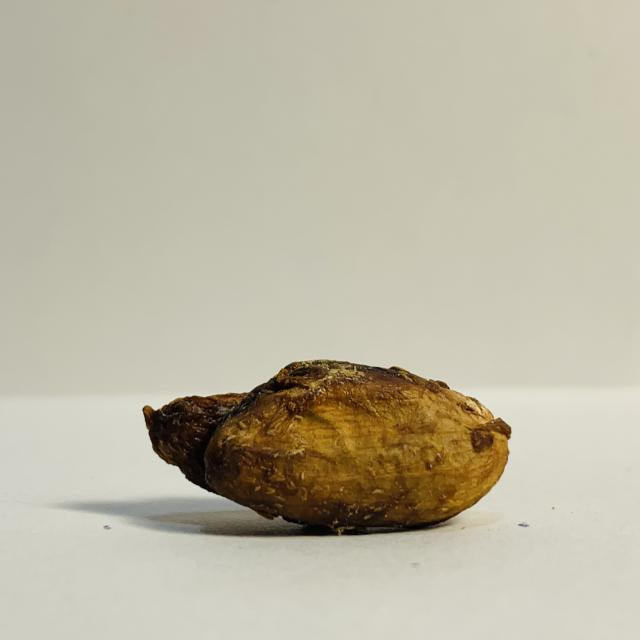Agglomerated_cocoabeans: (37, 303, 596, 571)
